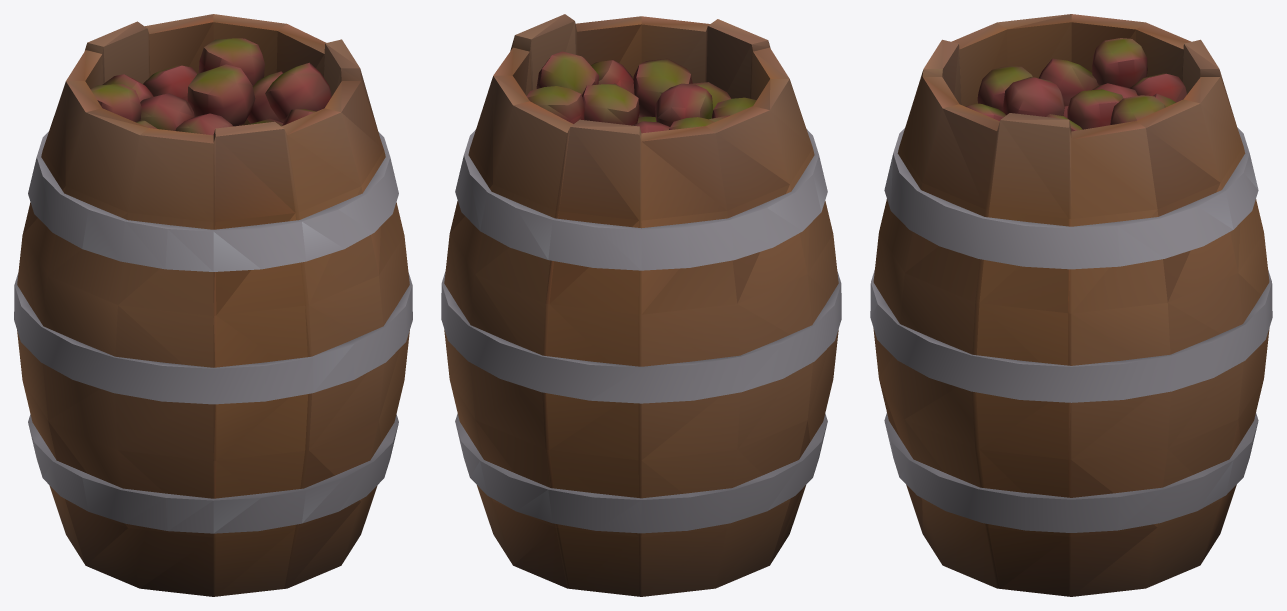
Rendered from prop_barrel_apples.glb.
The picture shows the model from 3 angles, left to right: view 1: azimuth 30°, elevation 25°; view 2: azimuth 150°, elevation 25°; view 3: azimuth 270°, elevation 25°; orthographic projection.
Visible parts, largest first — view 1: refined; view 2: refined; view 3: refined.
Part boxes in pixels (x1=…): refined: x1=14, y1=14, x2=412, y2=596; refined: x1=441, y1=14, x2=841, y2=596; refined: x1=870, y1=14, x2=1272, y2=596.
Size of the model in its own units: 0.698 by 0.898 by 0.698.
